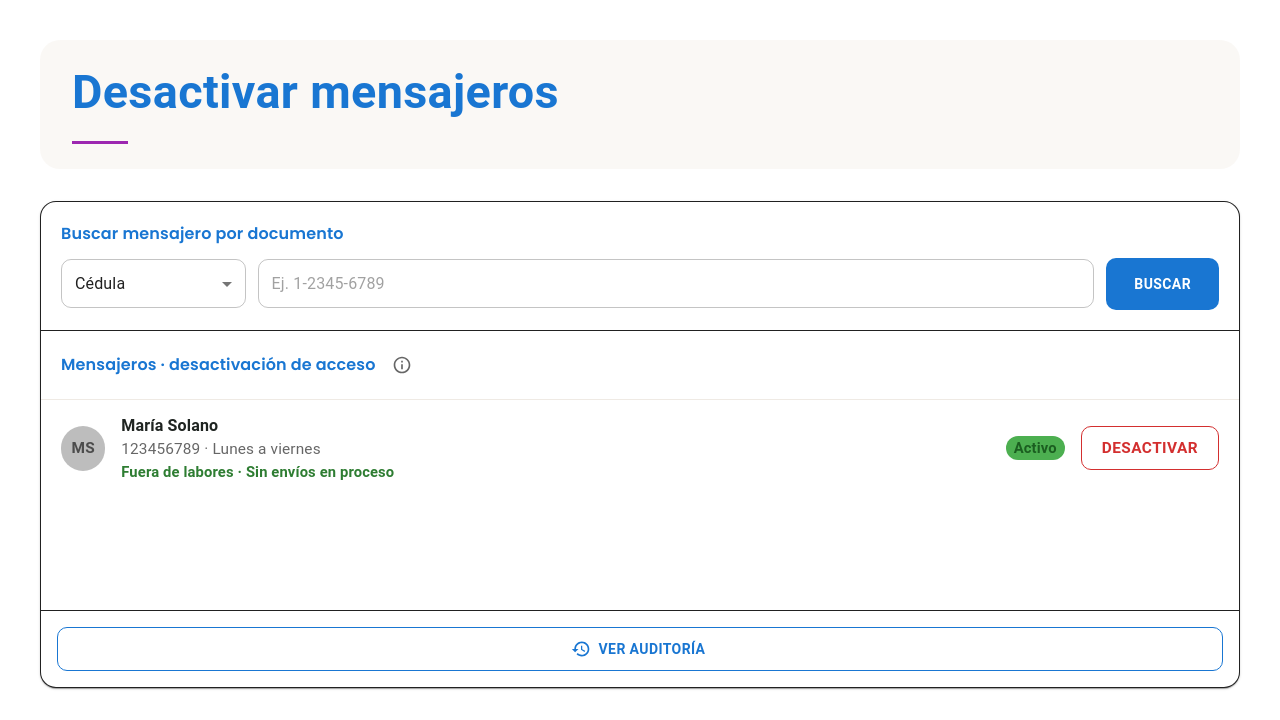
Test: MessengerFleetList (HU-005 desactivar mensajero) › al confirmar desactiva por id, marca Inactivo y muestra la auditoría del backend
Click the button "Desactivar" at (1150, 448), box top-left (1081, 426), bottom-right (1219, 470)
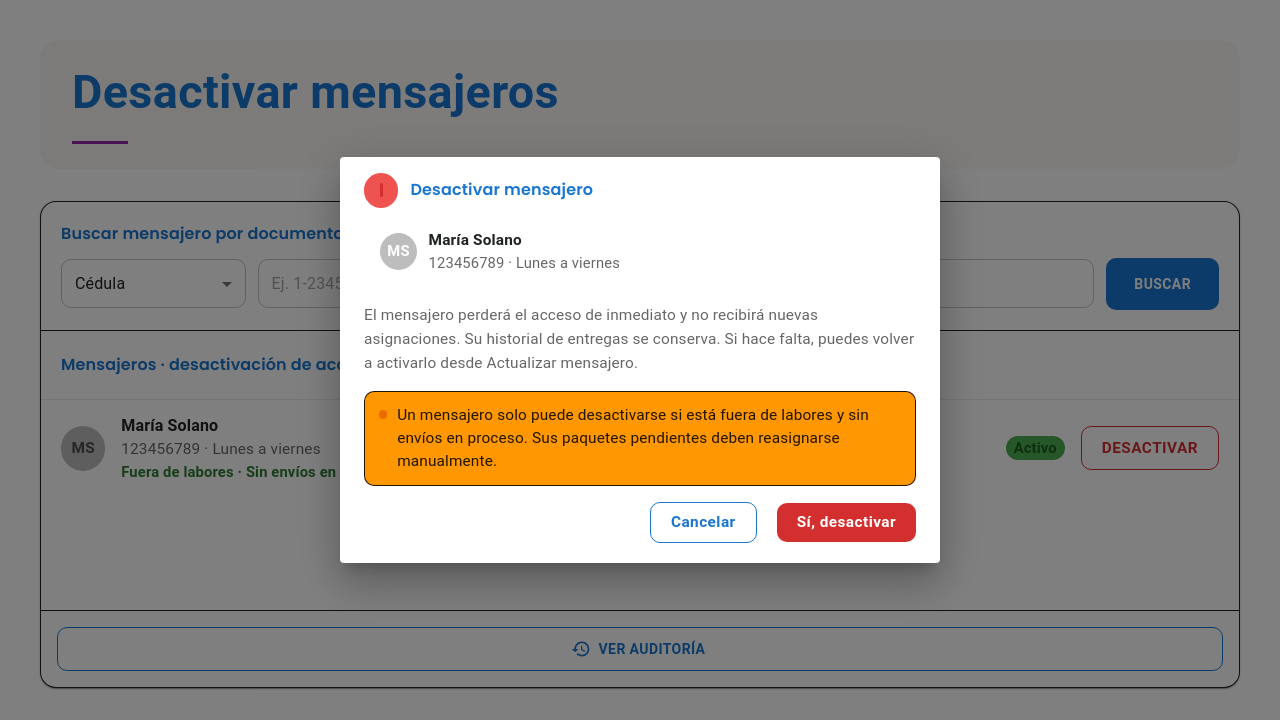
Click the button "Sí, desactivar" at (846, 522), box top-left (777, 503), bottom-right (916, 542)
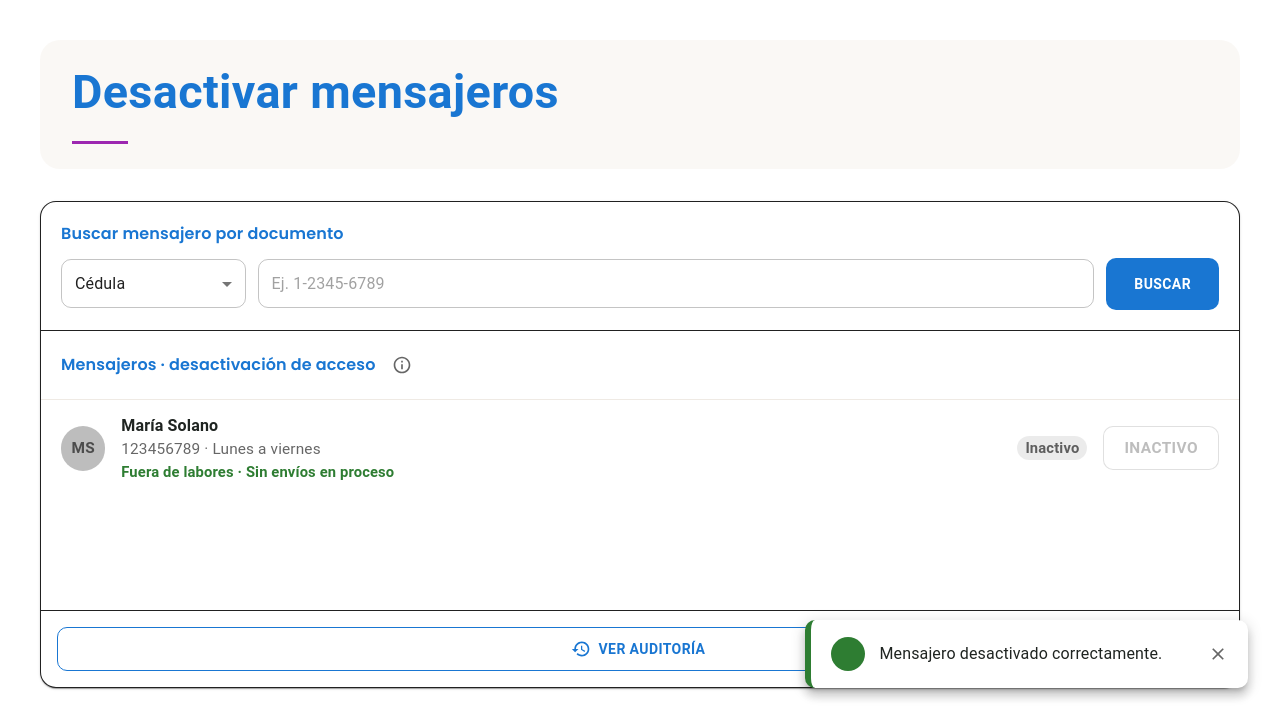
Expected: the button "Inactivo" is shown, top-left (1103, 426), bottom-right (1219, 470)
Click the button "Ver auditoría" at (640, 649), box top-left (57, 627), bottom-right (1223, 671)
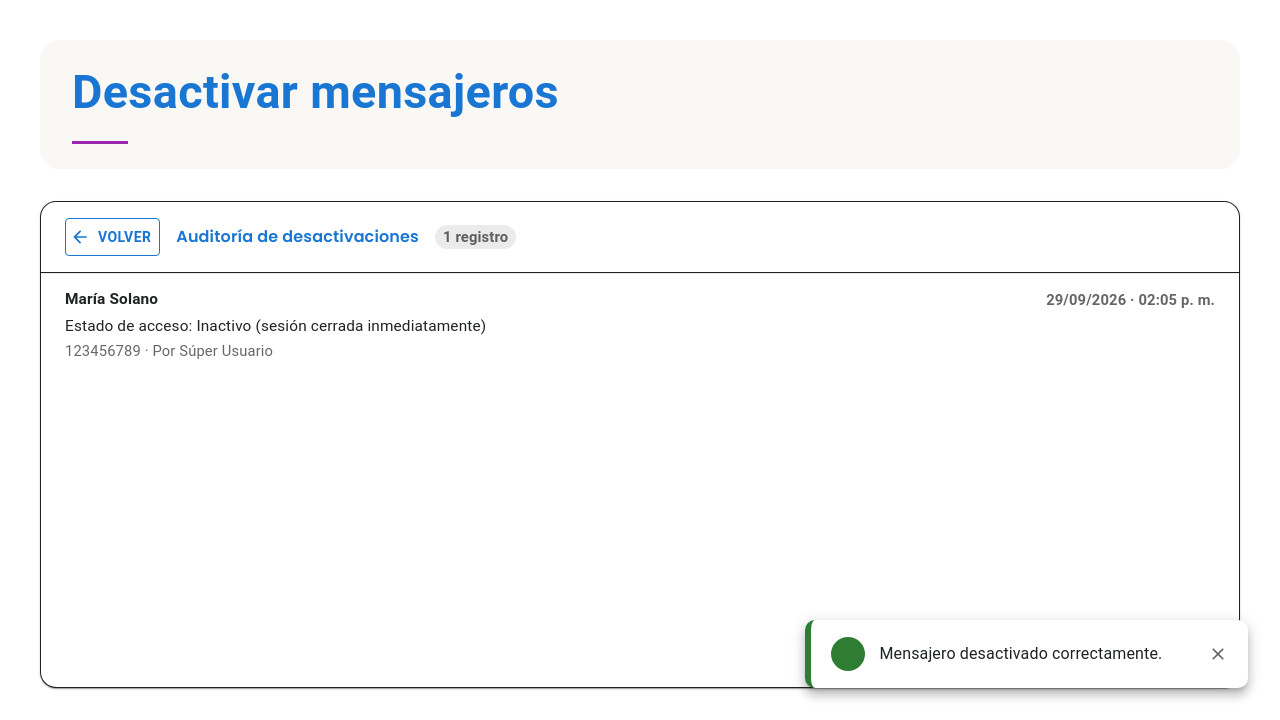
Expected: the text "Por Súper Usuario" is shown, top-left (152, 342), bottom-right (273, 360)
Expected: the text "Estado de acceso: Inactivo (sesión cerrada inmediatamente)" is shown, top-left (65, 317), bottom-right (486, 335)
